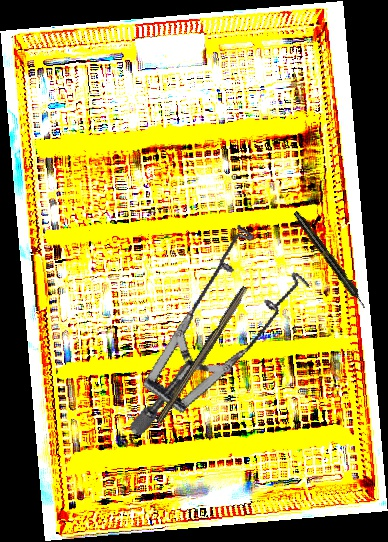Handpiece: (291, 209, 369, 311)
Scalpel Handle: (155, 283, 251, 427)
Speculum: (78, 208, 338, 439)
